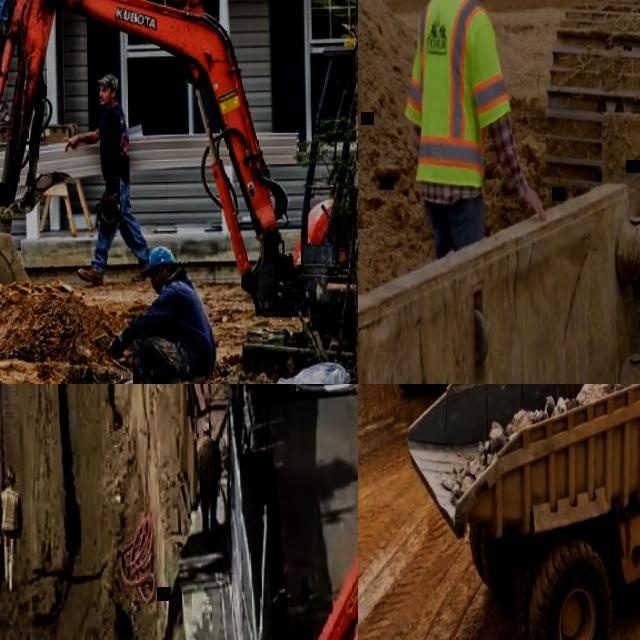Hardhat: (4, 467, 16, 483), (200, 421, 212, 431)
NO-Hardhat: (141, 244, 178, 267), (96, 74, 120, 90)
NO-Mask: (99, 95, 112, 105), (152, 282, 162, 294)
NO-Safety Vest: (162, 281, 207, 350), (101, 110, 129, 174)
Person: (403, 0, 546, 255), (61, 71, 151, 286), (102, 242, 216, 384), (196, 420, 223, 533), (0, 465, 22, 592), (0, 0, 21, 120)
Safety Vest: (405, 0, 509, 173), (1, 489, 19, 530)
machinery: (0, 0, 358, 384), (399, 384, 640, 640), (540, 0, 640, 203), (296, 542, 358, 640)
